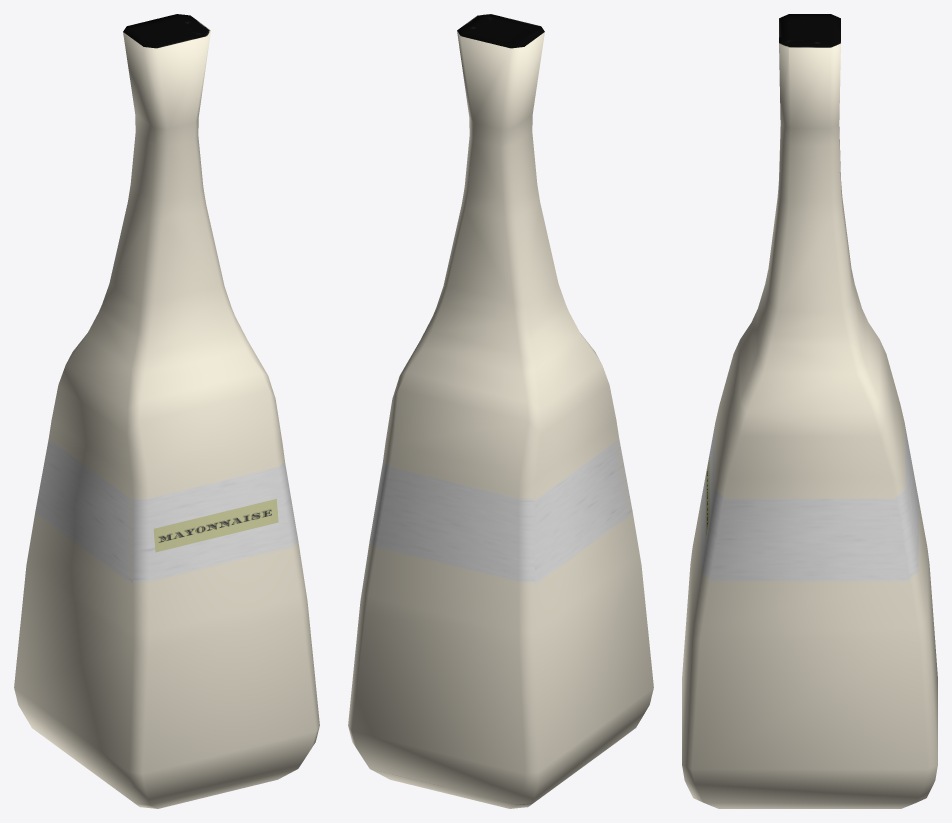
The model's file is Mayonnaise Bottle.fbx.
The picture shows the model from 3 angles, left to right: view 1: azimuth 30°, elevation 25°; view 2: azimuth 150°, elevation 25°; view 3: azimuth 270°, elevation 25°; orthographic projection. The views are drawn at different scales.
Parts seen in each view (by area): view 1: Mayonnaise_Bottle; view 2: Mayonnaise_Bottle; view 3: Mayonnaise_Bottle.
Part boxes in pixels (left/top/right/bottom): Mayonnaise_Bottle: left=14, top=14, right=319, bottom=808; Mayonnaise_Bottle: left=348, top=14, right=653, bottom=808; Mayonnaise_Bottle: left=682, top=14, right=937, bottom=808.
Size of the model in its own units: 45.72 by 169 by 52.
Materials: 1 (1 with a texture image).
